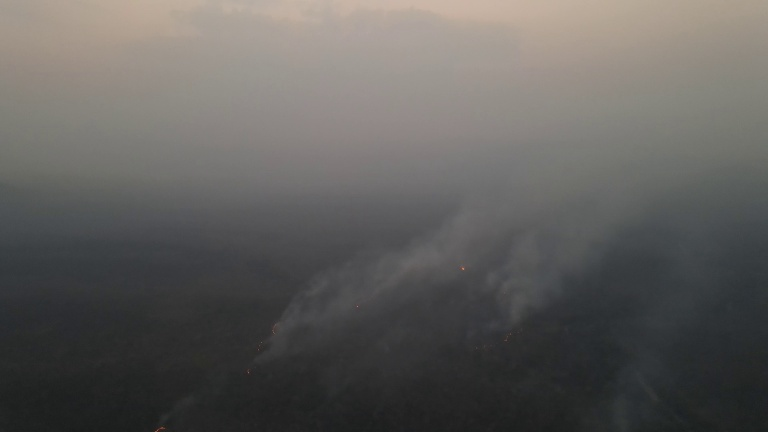fire: (246, 308, 291, 379), (472, 325, 529, 354), (151, 423, 167, 432), (351, 300, 360, 314), (458, 264, 467, 272)
smoke: (252, 126, 597, 384), (603, 276, 679, 432), (161, 398, 190, 428)
